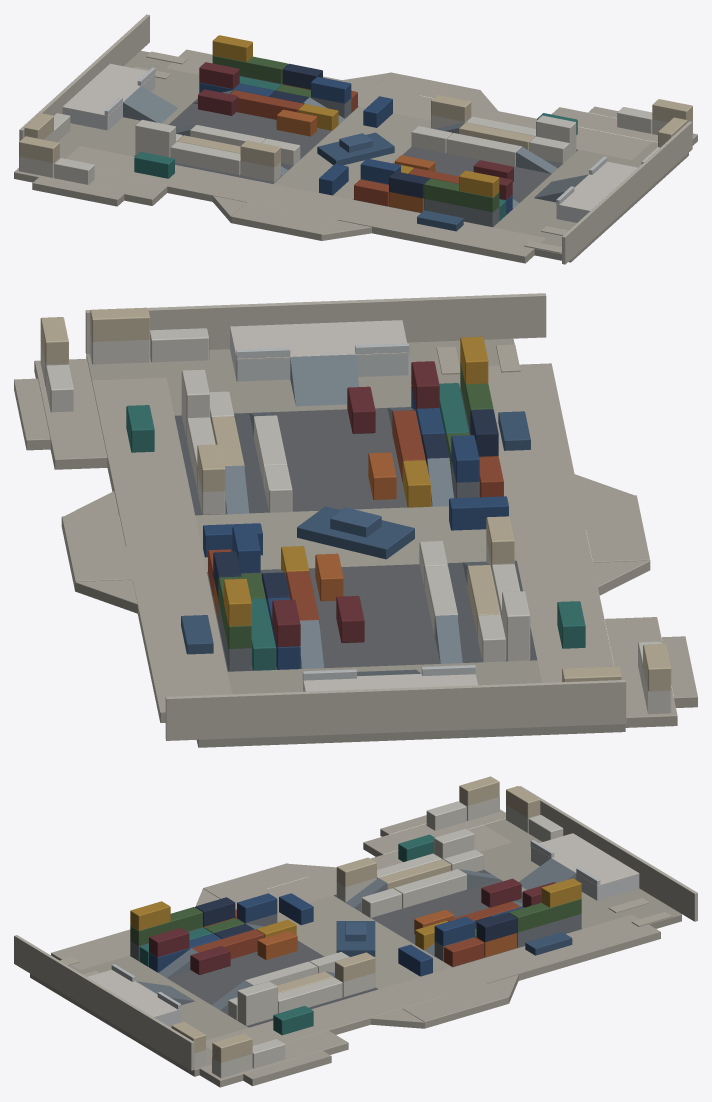
Rendered from cargo_turf_level.glb.
3 views of the same model, one above another, from view 1: azimuth 30°, elevation 25°; view 2: azimuth 150°, elevation 25°; view 3: azimuth 270°, elevation 25° (orthographic). The views are drawn at different scales.
Visible parts, largest first — view 1: PaintableStage; view 2: PaintableStage; view 3: PaintableStage.
Boxes of the visible parts, box(x1,y1,x2,y2) form: PaintableStage: box(14, 14, 697, 264); PaintableStage: box(14, 293, 697, 747); PaintableStage: box(14, 776, 697, 1087).
Bounding box in the file's own units: 101 × 10.6 × 106.
